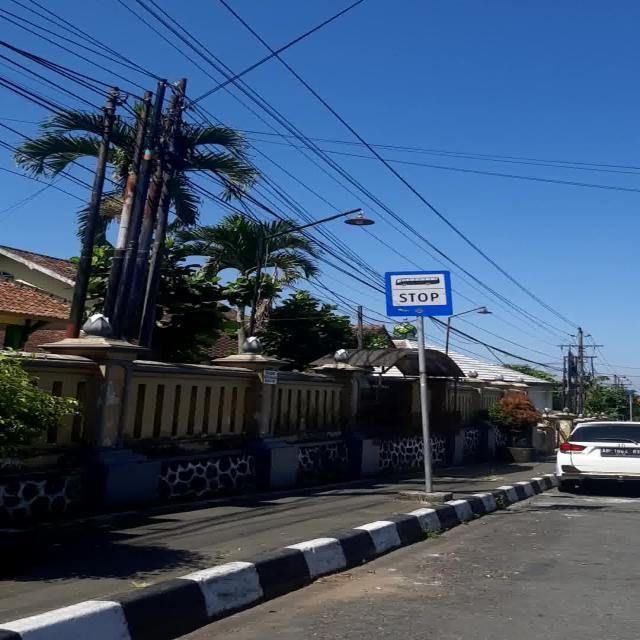Pemberhentian Bus: (385, 270, 453, 317)
